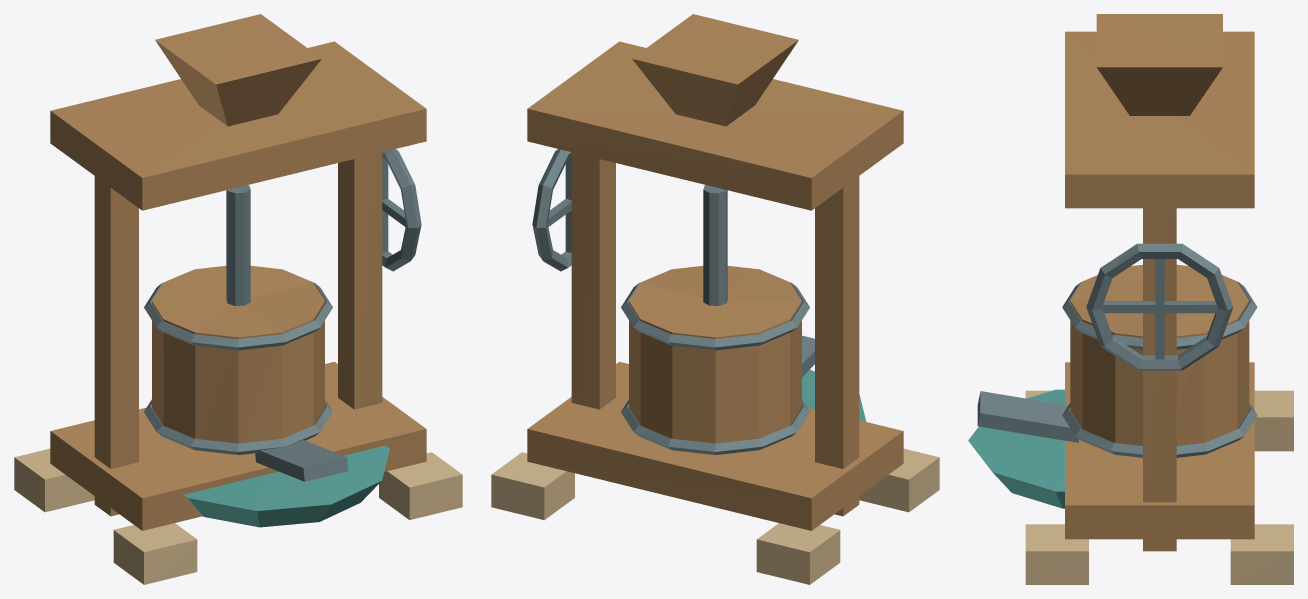
File: Oil-Press.glb
3 views of the same model, side by side, from view 1: azimuth 30°, elevation 25°; view 2: azimuth 150°, elevation 25°; view 3: azimuth 270°, elevation 25° (orthographic). The views are drawn at different scales.
Parts seen in each view (by area): view 1: oil-press-static-oil-press-warm-timber-mat, oil-press-static-oil-press-warm-stone-mat, oil-press-static-oil-press-dark-iron-mat, oil-press-static-oil-press-blue-grey-basin-mat, oil-press-static-oil-press-muted-galvanized-mat; view 2: oil-press-static-oil-press-warm-timber-mat, oil-press-static-oil-press-warm-stone-mat, oil-press-static-oil-press-dark-iron-mat; view 3: oil-press-static-oil-press-warm-timber-mat, oil-press-static-oil-press-dark-iron-mat, oil-press-static-oil-press-warm-stone-mat, oil-press-static-oil-press-blue-grey-basin-mat, oil-press-static-oil-press-muted-galvanized-mat.
Boxes of the visible parts, bbox=[...] form: oil-press-static-oil-press-warm-timber-mat: bbox=[50, 14, 426, 530]; oil-press-static-oil-press-warm-stone-mat: bbox=[14, 448, 462, 584]; oil-press-static-oil-press-dark-iron-mat: bbox=[144, 149, 421, 454]; oil-press-static-oil-press-blue-grey-basin-mat: bbox=[184, 445, 389, 527]; oil-press-static-oil-press-muted-galvanized-mat: bbox=[255, 440, 348, 481]; oil-press-static-oil-press-warm-timber-mat: bbox=[527, 14, 903, 530]; oil-press-static-oil-press-warm-stone-mat: bbox=[491, 448, 939, 584]; oil-press-static-oil-press-dark-iron-mat: bbox=[532, 149, 809, 454]; oil-press-static-oil-press-warm-timber-mat: bbox=[1065, 14, 1254, 551]; oil-press-static-oil-press-dark-iron-mat: bbox=[1062, 243, 1257, 457]; oil-press-static-oil-press-warm-stone-mat: bbox=[1025, 390, 1293, 584]; oil-press-static-oil-press-blue-grey-basin-mat: bbox=[968, 389, 1064, 508]; oil-press-static-oil-press-muted-galvanized-mat: bbox=[977, 391, 1079, 442].
Size of the model in its own units: 2.04 by 2.75 by 1.75.
